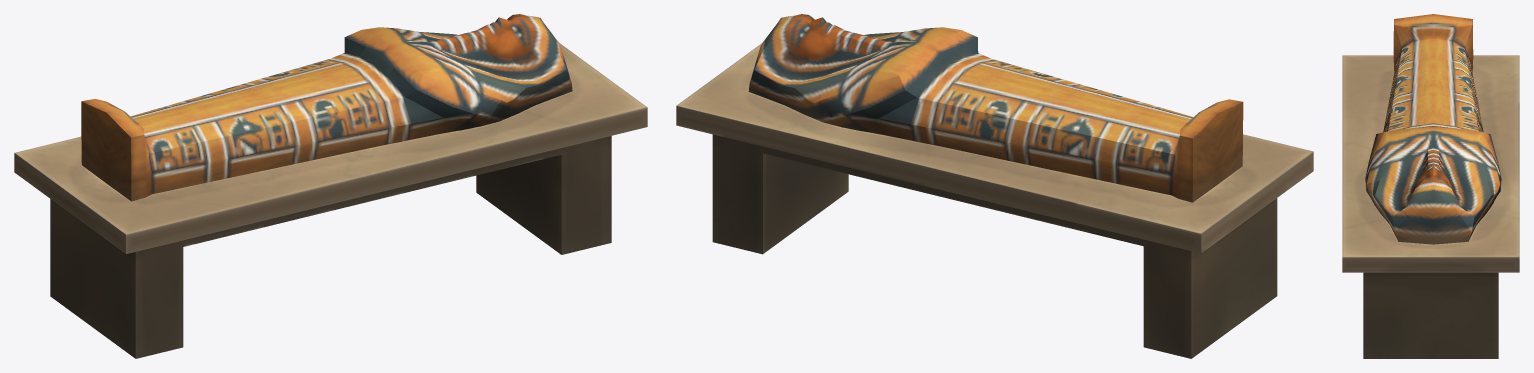
Rendered from Obstacles_SarcophagusSlidable.fbx.
3 views of the same model, side by side, from view 1: azimuth 30°, elevation 25°; view 2: azimuth 150°, elevation 25°; view 3: azimuth 270°, elevation 25° (orthographic). The views are drawn at different scales.
Parts seen in each view (by area): view 1: Obstacle_Sarcophagus_slidable; view 2: Obstacle_Sarcophagus_slidable; view 3: Obstacle_Sarcophagus_slidable.
Boxes of the visible parts, x1,y1,x2,y2 form: Obstacle_Sarcophagus_slidable: [14, 14, 647, 358]; Obstacle_Sarcophagus_slidable: [676, 14, 1313, 358]; Obstacle_Sarcophagus_slidable: [1342, 14, 1519, 358].
Bounding box in the file's own units: 2484 × 957 × 922.
